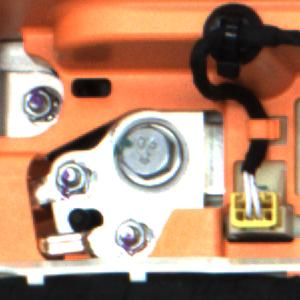nut_b: (111, 116, 191, 193)
screw_s: (112, 213, 158, 258), (55, 157, 96, 203), (23, 85, 57, 126)
